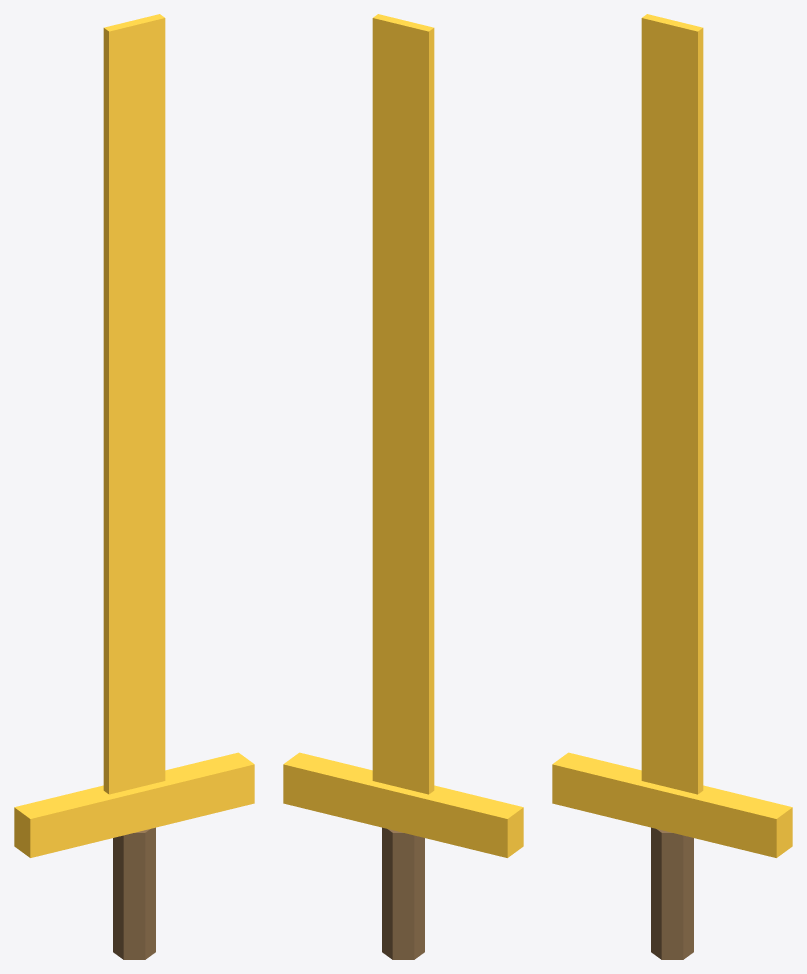
Rendered from prop_sword.glb.
3 views of the same model, side by side, from view 1: azimuth 30°, elevation 25°; view 2: azimuth 150°, elevation 25°; view 3: azimuth 330°, elevation 25° (orthographic).
Visible parts, largest first — view 1: blade_gold, guard_gold, grip_cardboard; view 2: blade_gold, guard_gold, grip_cardboard; view 3: blade_gold, guard_gold, grip_cardboard.
Part boxes in pixels (<box>): blade_gold: <box>103,14,165,794</box>; guard_gold: <box>14,752,254,857</box>; grip_cardboard: <box>113,827,155,959</box>; blade_gold: <box>372,14,434,794</box>; guard_gold: <box>283,752,523,857</box>; grip_cardboard: <box>382,827,424,959</box>; blade_gold: <box>641,14,703,794</box>; guard_gold: <box>552,752,792,857</box>; grip_cardboard: <box>651,827,693,959</box>.
Size of the model in its own units: 0.24 by 0.95 by 0.04.
